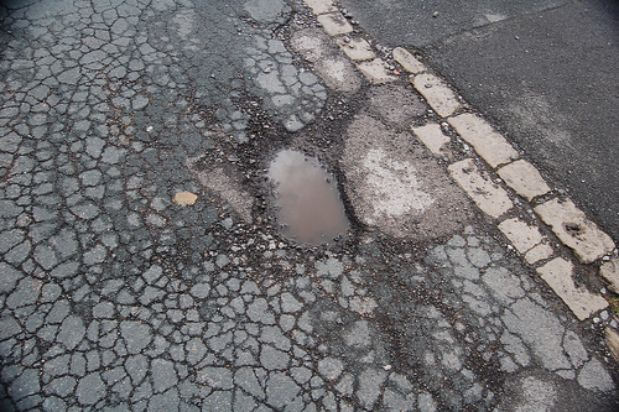pothole: (238, 129, 373, 254)
